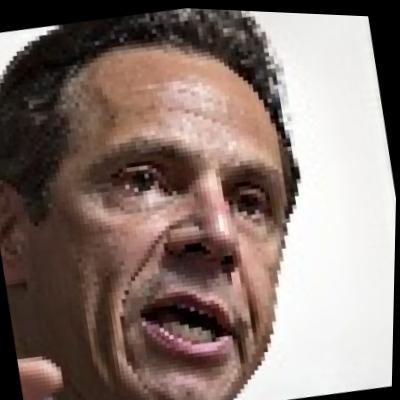angry: (18, 17, 328, 400)
